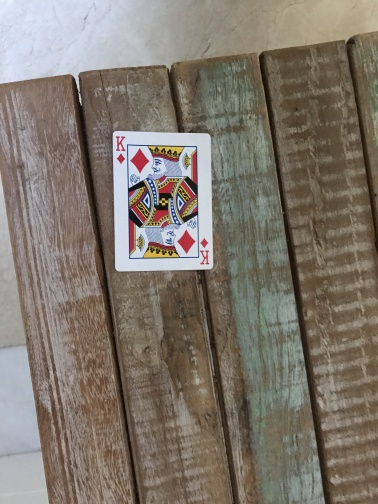king: (111, 130, 215, 273)
